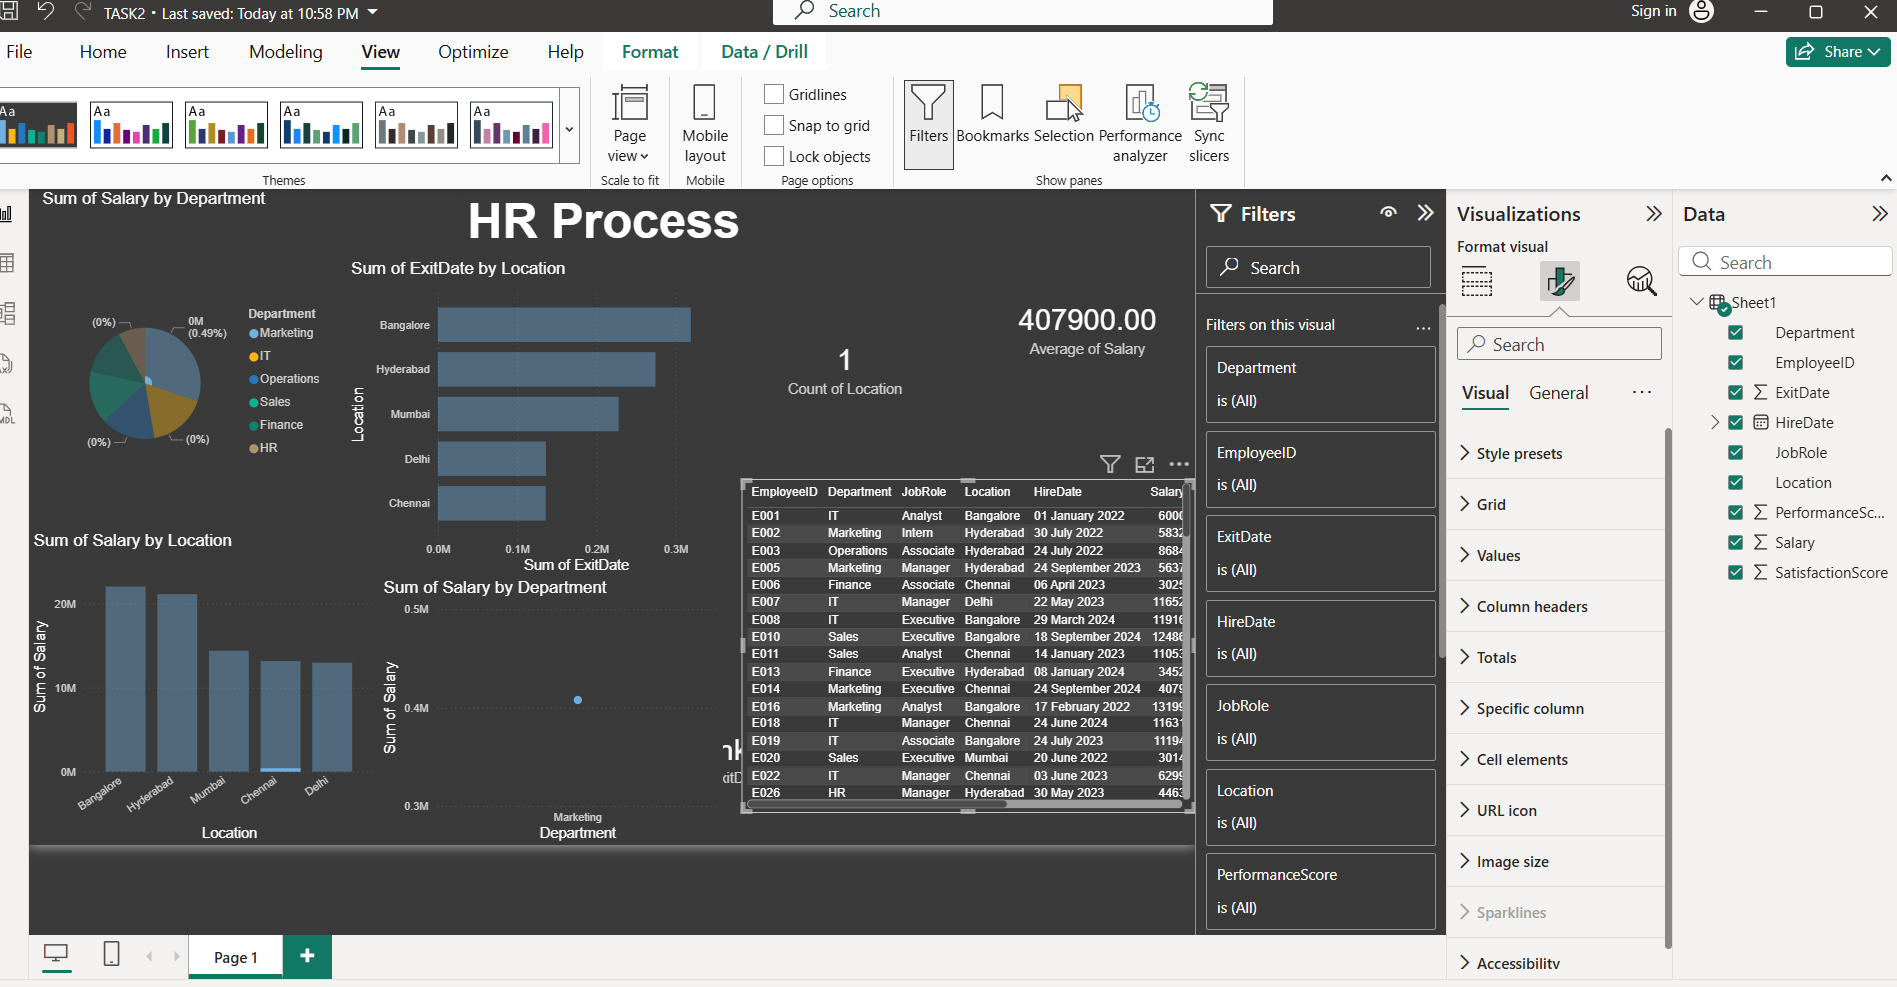

Layout of this report page (visuals, bound fields, positions):
{"tool":"powerbi","page":{"name":"Page 1","canvas":[1280,720],"ordinal":0},"visuals":[{"type":"pieChart","fields":{"Category":["Sheet1.Department"],"Y":["Sum(Sheet1.Salary)"]},"box":[9.6,0,328,406.2],"z":0},{"type":"azureMap","fields":{"Series":["Sheet1.HireDate"],"PathID":["Sheet1.JobRole"]},"box":[10,416,328,304],"z":1000},{"type":"card","fields":{"Values":["Count(Sheet1.Location)"]},"box":[791.8,105.7,208.6,181.1],"z":2000},{"type":"card","fields":{"Values":["Avg(Sheet1.Salary)"]},"box":[1044.3,35.7,236,233.3],"z":3000},{"type":"card","fields":{"Values":["Sum(Sheet1.ExitDate)"]},"box":[639.5,547.5,220.9,152.3],"z":4000},{"type":"tableEx","fields":{"Values":["Sheet1.EmployeeID","Sheet1.Department","Sheet1.JobRole","Sheet1.Location","Sheet1.HireDate","Sheet1.Salary","Sheet1.PerformanceScore","Sheet1.SatisfactionScore","Sheet1.ExitDate"]},"box":[782.2,318.4,498.1,366.4],"z":5000},{"type":"columnChart","fields":{"Category":["Sheet1.Location"],"Y":["Sum(Sheet1.Salary)"]},"box":[0,374.6,384.2,345.8],"z":6000},{"type":"clusteredBarChart","fields":{"Category":["Sheet1.Location"],"Y":["Sum(Sheet1.ExitDate)"]},"box":[348.5,76.8,424,349.9],"z":6001},{"type":"lineChart","fields":{"Category":["Sheet1.Department"],"Y":["Sum(Sheet1.Salary)"]},"box":[384.2,426.8,377.4,293.7],"z":6002},{"type":"textbox","box":[476.2,0,489.9,76.8],"z":6003}]}

Visuals, with their boxes on the page's 1280x720 design canvas (x1, y1, x2, y2). These are canvas units, not pixel positions in the 1897x987 screenshot, which may show the page scaled, cropped or inside an application window:
pieChart - Sheet1.Department x Sum(Sheet1.Salary): [left=10, top=0, right=338, bottom=406]
azureMap - Sheet1.HireDate x Sheet1.JobRole: [left=10, top=416, right=338, bottom=720]
card - Count(Sheet1.Location): [left=792, top=106, right=1000, bottom=287]
card - Avg(Sheet1.Salary): [left=1044, top=36, right=1280, bottom=269]
card - Sum(Sheet1.ExitDate): [left=640, top=548, right=860, bottom=700]
tableEx - Sheet1.EmployeeID x Sheet1.Department: [left=782, top=318, right=1280, bottom=685]
columnChart - Sheet1.Location x Sum(Sheet1.Salary): [left=0, top=375, right=384, bottom=720]
clusteredBarChart - Sheet1.Location x Sum(Sheet1.ExitDate): [left=348, top=77, right=772, bottom=427]
lineChart - Sheet1.Department x Sum(Sheet1.Salary): [left=384, top=427, right=762, bottom=720]
textbox: [left=476, top=0, right=966, bottom=77]
